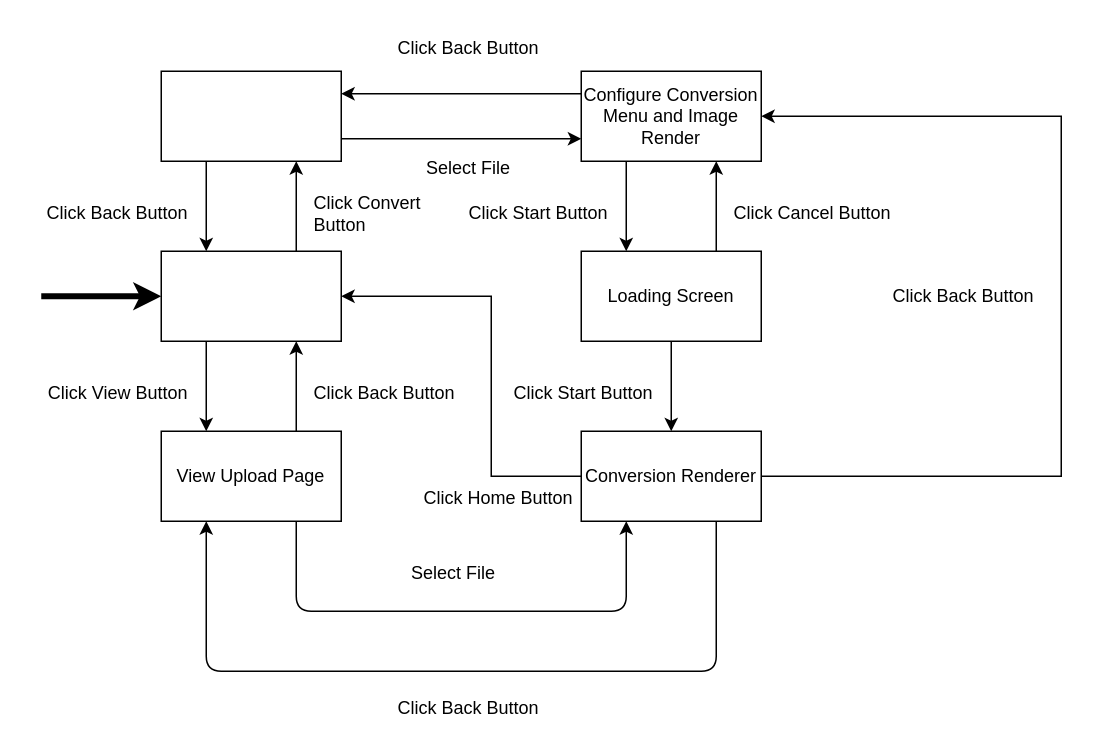
Image size: 1100x756. Some labels were removed from this diagram. The centre of each missing label's shape, as x and y in pixels:
Convert Upload Page: point (250, 115)
Main Menu: point (250, 295)
